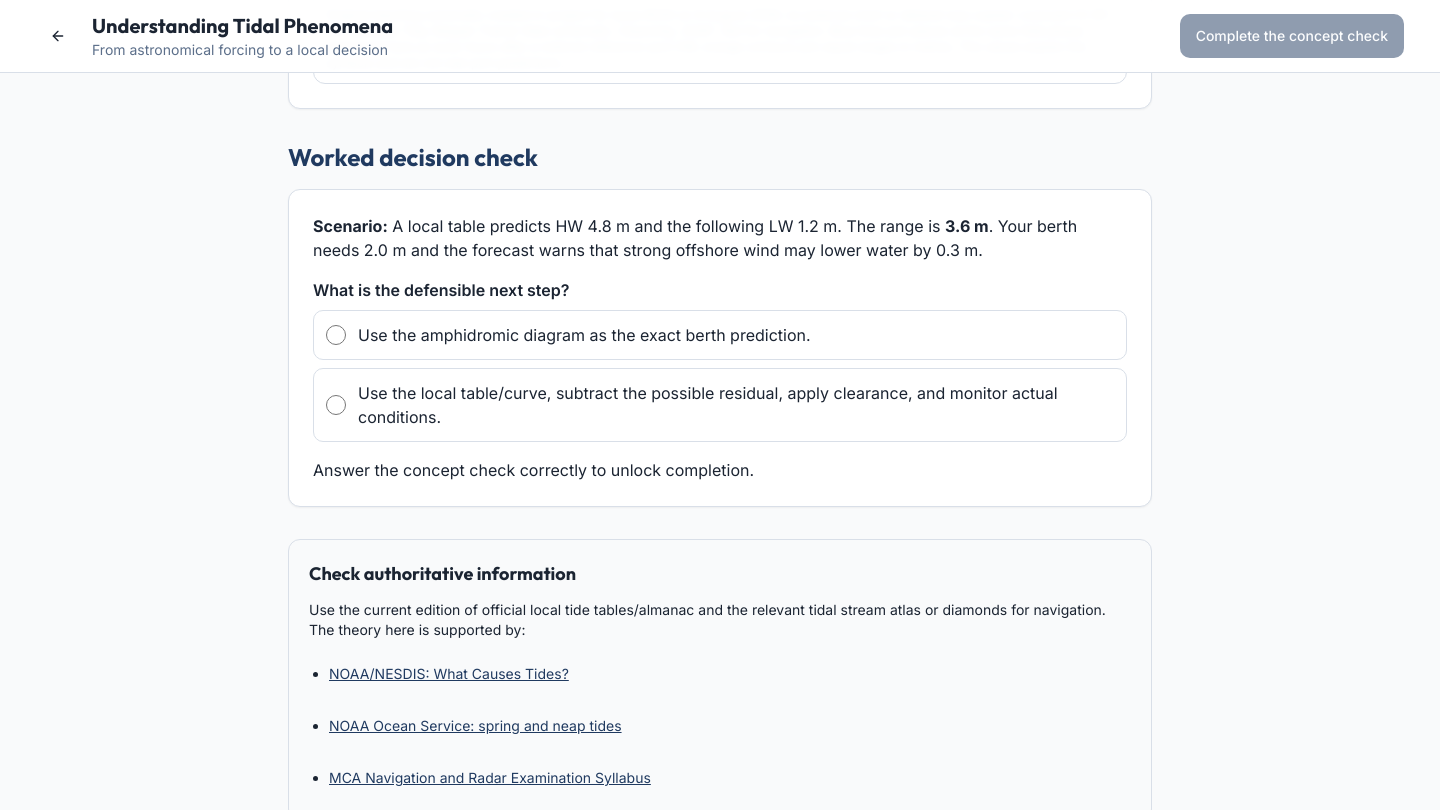
Test case: Understanding Tides lesson › checks a safe decision using local predictions and residuals
(page scrolled)
Click the radio button labelled "Use the local table/curve" at (336,405), box [326,395,346,415]
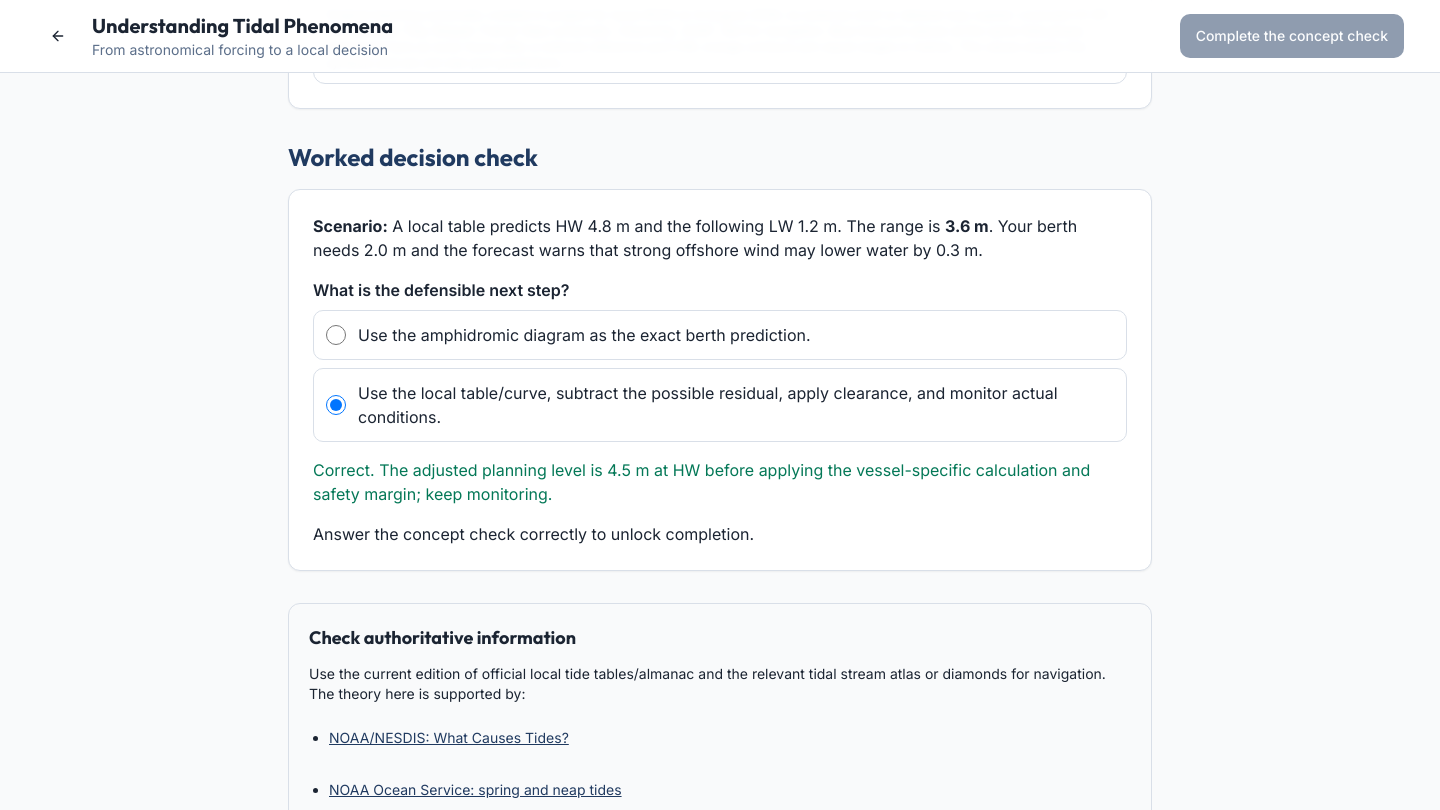
Now the message shows "adjusted planning level is 4.5 m", box [313,460,1090,504]
